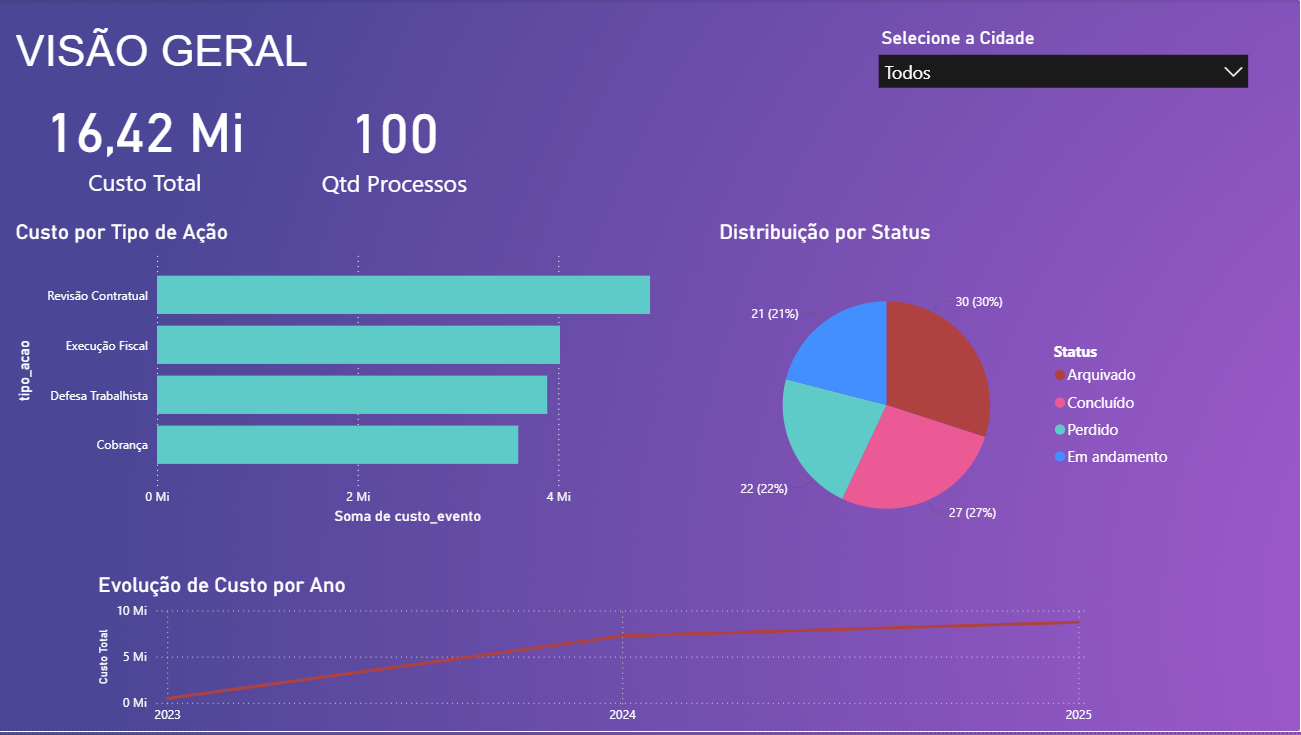

The page's visual inventory and layout, read from the dashboard file:
{"tool":"powerbi","page":{"name":"VISÃO GERAL","canvas":[1280,720],"ordinal":0},"visuals":[{"type":"textbox","box":[13.7,22,315.6,70],"z":0},{"type":"card","fields":{"Values":["public movimentacao.Custo Total"]},"box":[0,79.8,290.8,119],"z":1000},{"type":"card","fields":{"Values":["public processo.Qtd Processos"]},"box":[290.8,71.2,198.8,138.7],"z":2000},{"type":"barChart","title":"Custo por Tipo de Ação","fields":{"Y":["Sum(public movimentacao.custo_evento)"],"Category":["public processo.tipo_acao"]},"box":[13.7,215.4,653.2,304.6],"z":3000},{"type":"pieChart","title":"Distribuição por Status","fields":{"Category":["public status_processo.descricao"],"Y":["public processo.Qtd Processos"]},"box":[704.3,216,458.9,342.3],"z":4000},{"type":"lineChart","title":"Evolução de Custo por Ano","fields":{"Category":["public movimentacao.data_evento.Variation.Hierarquia de datas.Ano","public movimentacao.data_evento.Variation.Hierarquia de datas.Trimestre","public movimentacao.data_evento.Variation.Hierarquia de datas.Mês","public movimentacao.data_evento.Variation.Hierarquia de datas.Dia"],"Y":["public movimentacao.Custo Total"]},"box":[94.7,562.6,985.3,157.8],"z":5000},{"type":"slicer","fields":{"Values":["public cliente.cidade"]},"box":[854.9,22,382.8,89.2],"z":6000}]}

Visuals, with their boxes in screenshot pixels (x1, y1, x2, y2), scaled from the page's 1280x720 canvas onto the 1301x735 screenshot:
textbox: (14, 22, 335, 94)
card - public movimentacao.Custo Total: (0, 81, 296, 203)
card - public processo.Qtd Processos: (296, 73, 498, 214)
"Custo por Tipo de Ação" barChart: (14, 220, 678, 531)
"Distribuição por Status" pieChart: (716, 220, 1182, 570)
"Evolução de Custo por Ano" lineChart: (96, 574, 1098, 734)
slicer - public cliente.cidade: (869, 22, 1258, 114)
